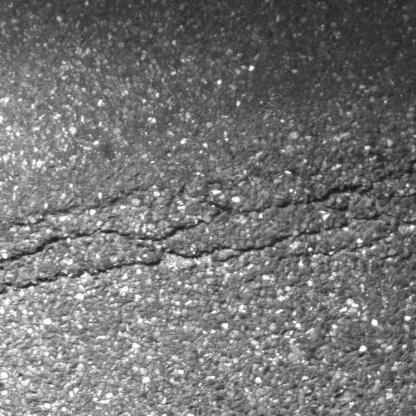Cracks: (0, 218, 354, 312), (0, 184, 153, 239), (199, 182, 370, 219), (0, 230, 97, 276), (309, 225, 416, 265), (402, 186, 416, 204)
